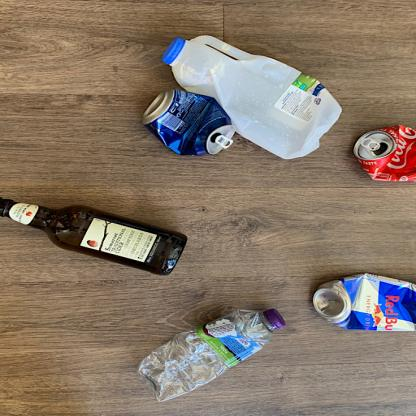trash: (161, 34, 343, 162), (0, 198, 188, 276), (139, 306, 288, 402), (142, 89, 238, 160), (312, 270, 416, 334), (354, 124, 414, 184)
